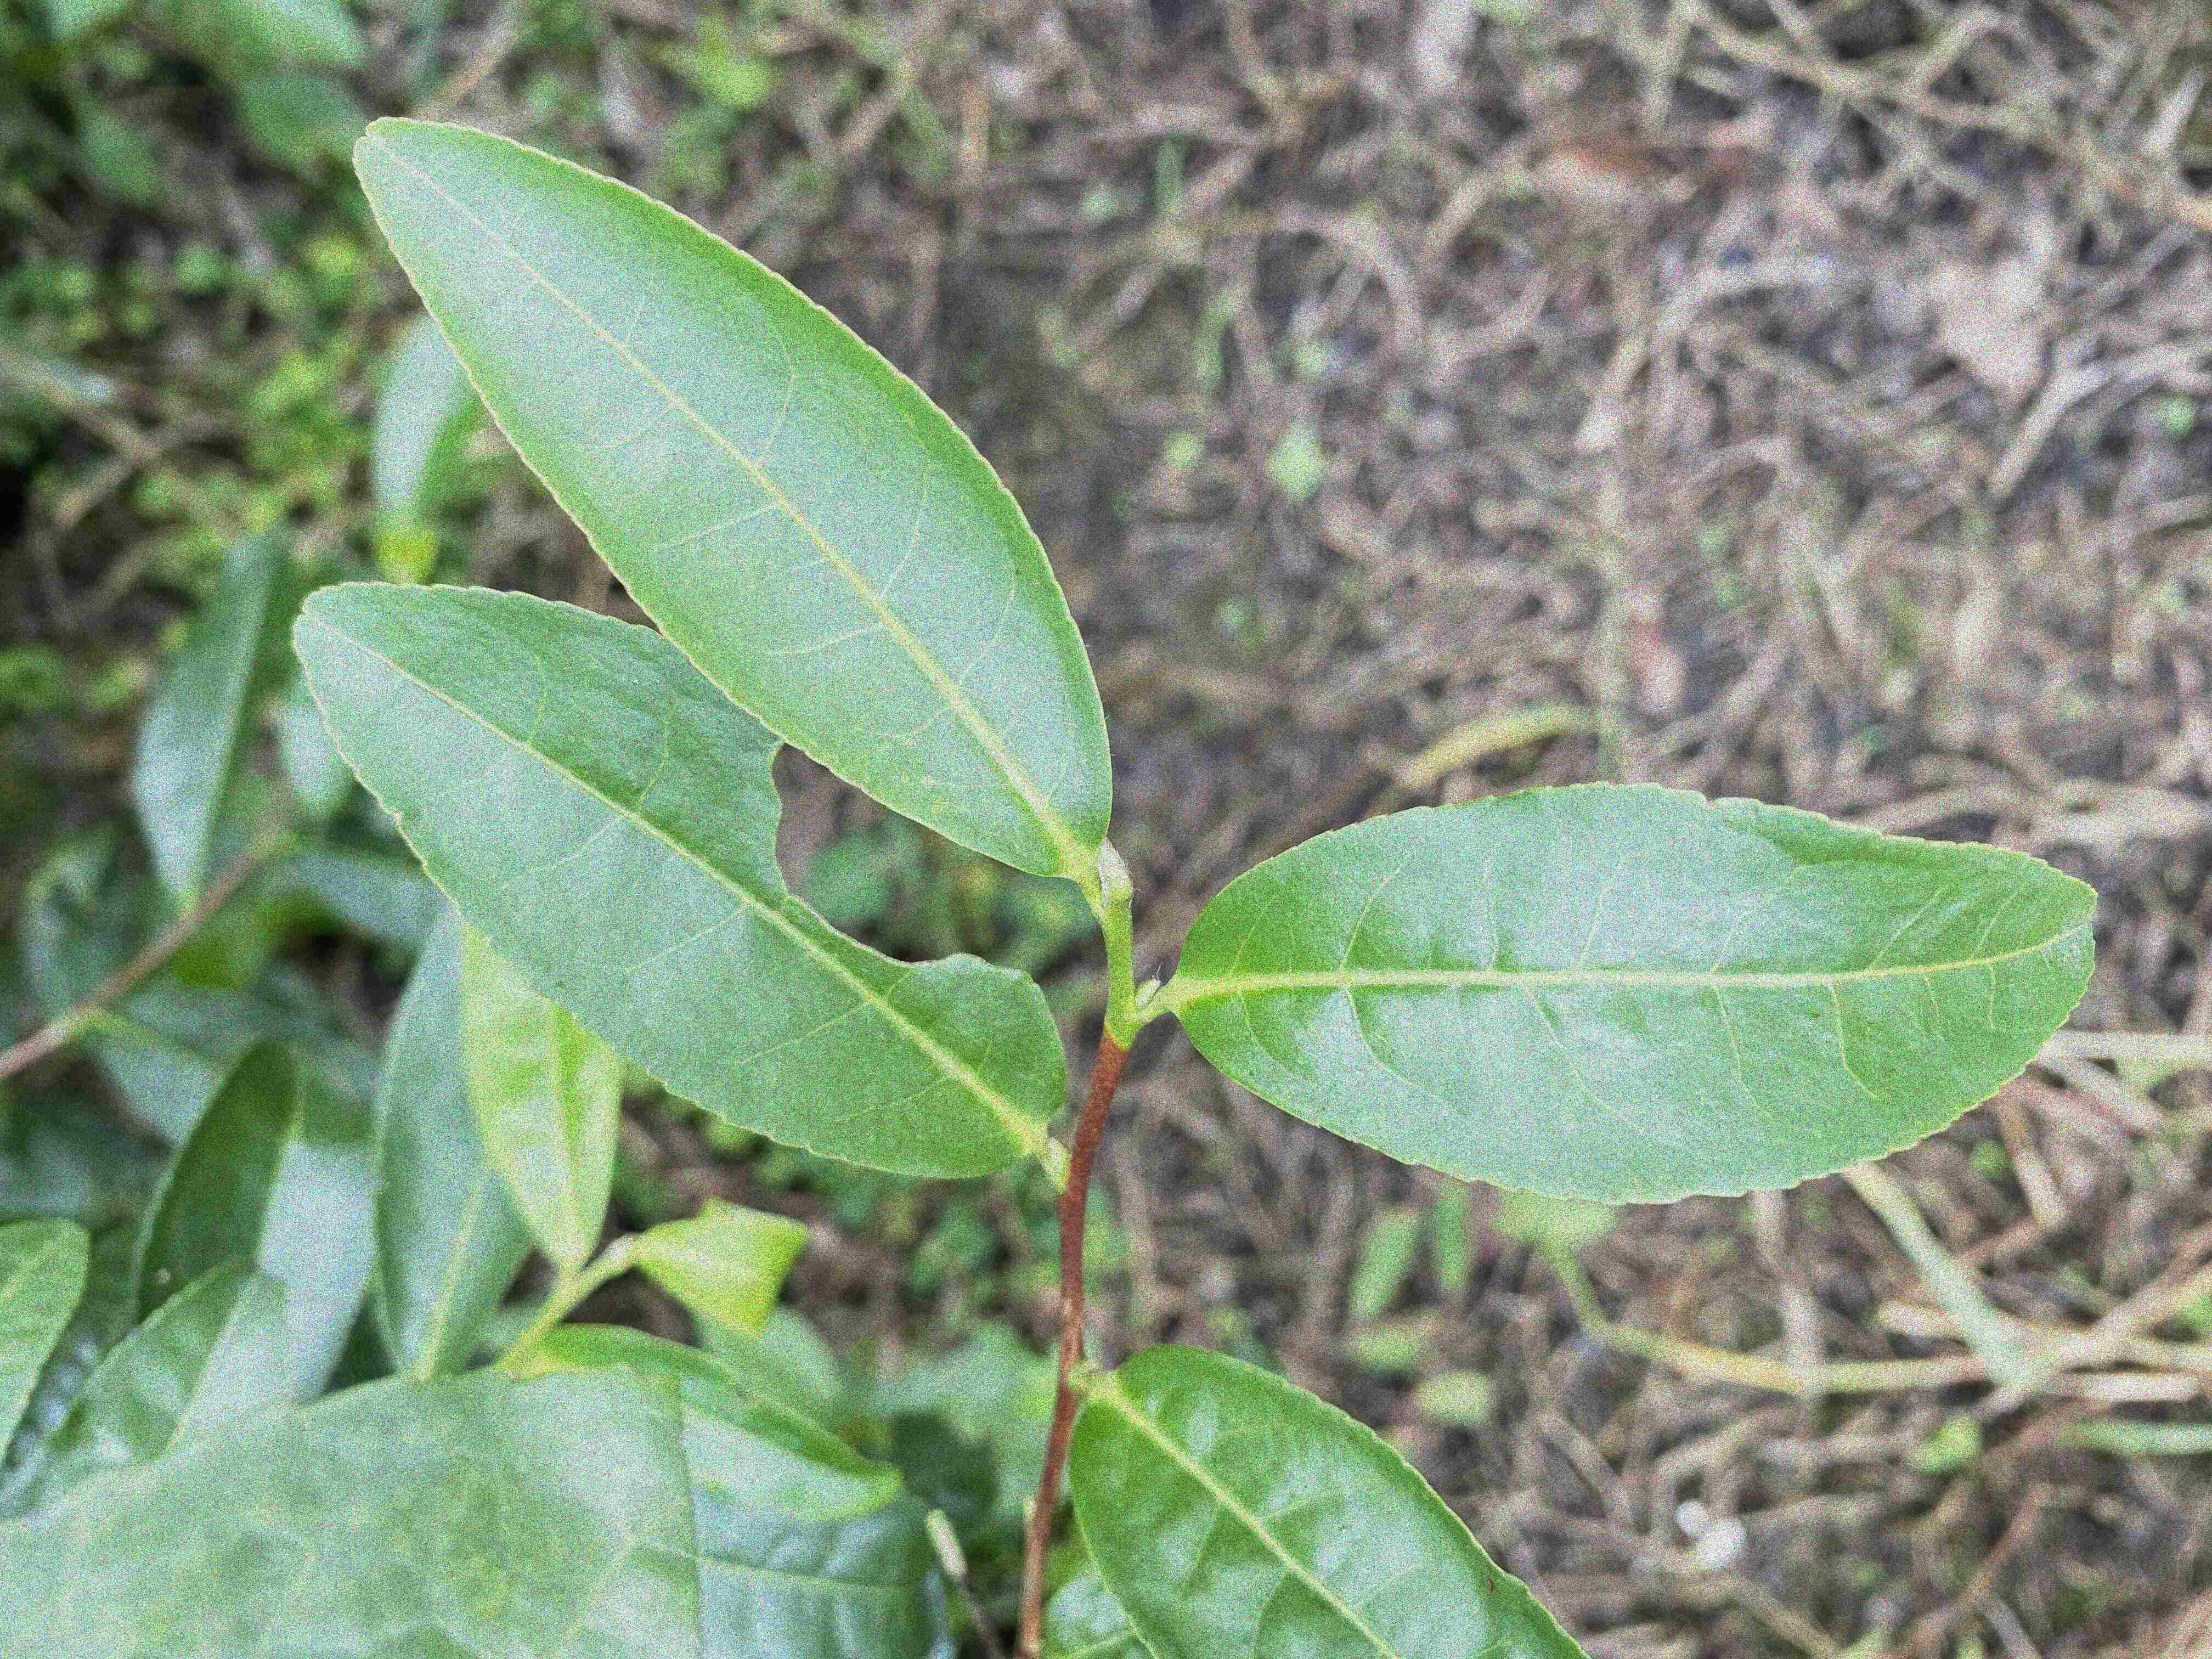chihuo_low: (287, 579, 1069, 1182)
healthy: (350, 115, 1118, 882), (1165, 779, 2104, 1206), (1066, 1333, 1594, 1656)
